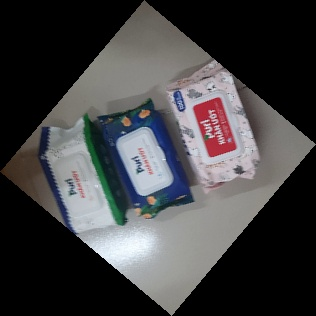Puri Trang: (37, 113, 127, 240)
Puri Xanh: (93, 99, 195, 224)
Puri hong: (163, 56, 261, 194)
